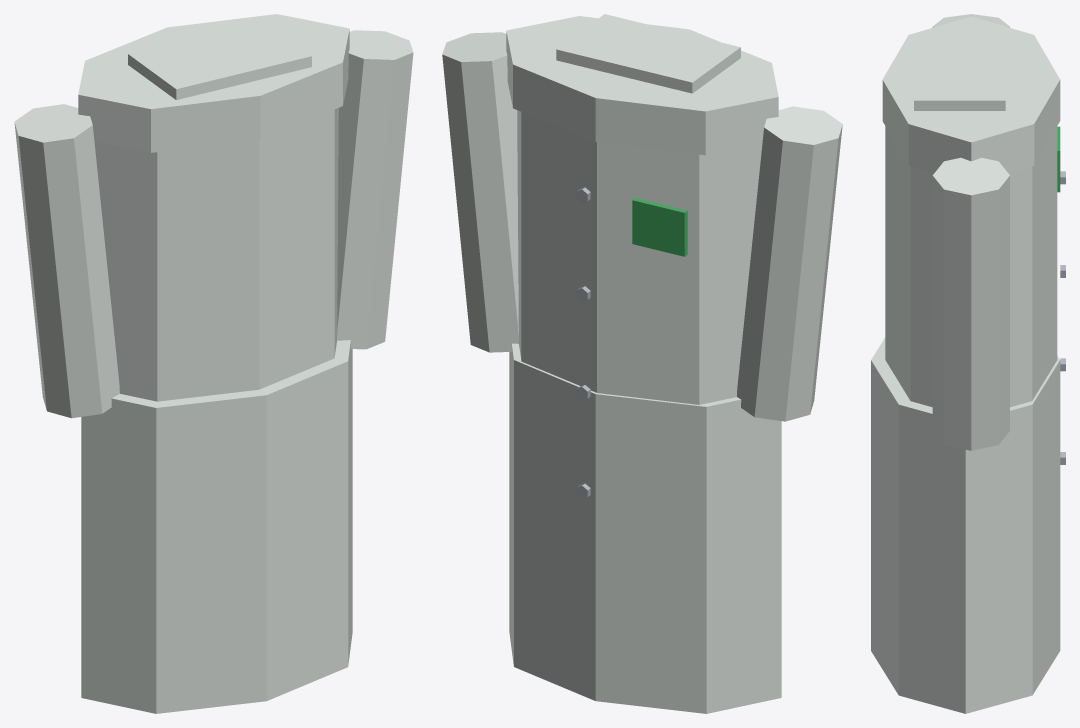
The model's file is cosmetic_coat_lab_coat.glb.
3 views of the same model, side by side, from view 1: azimuth 30°, elevation 25°; view 2: azimuth 150°, elevation 25°; view 3: azimuth 270°, elevation 25° (orthographic). The views are drawn at different scales.
Visible parts, largest first — view 1: cosmetic_coat_lab_coat; view 2: cosmetic_coat_lab_coat; view 3: cosmetic_coat_lab_coat.
Boxes of the visible parts, left/top/right/bottom form: cosmetic_coat_lab_coat: left=14, top=14, right=413, bottom=713; cosmetic_coat_lab_coat: left=442, top=14, right=842, bottom=713; cosmetic_coat_lab_coat: left=871, top=14, right=1065, bottom=713.
Bounding box in the file's own units: 0.7486 × 1.12 × 0.34.
Materials: 1 (1 with a texture image).
